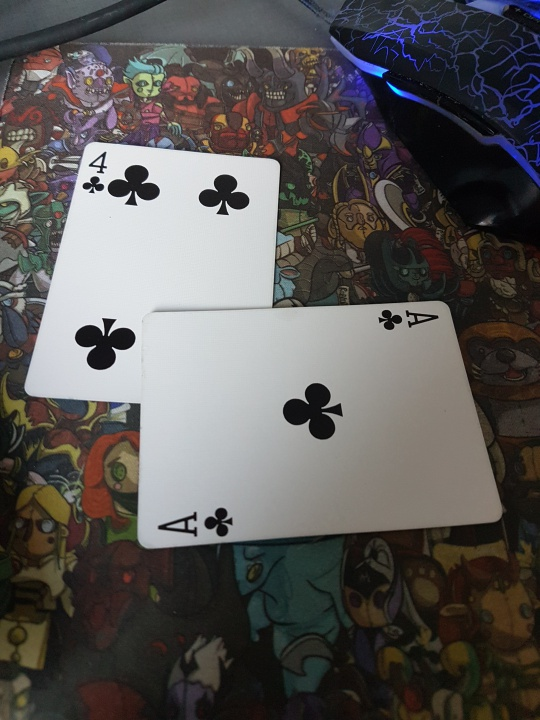4: (23, 142, 281, 402)
ace: (137, 300, 502, 549)
